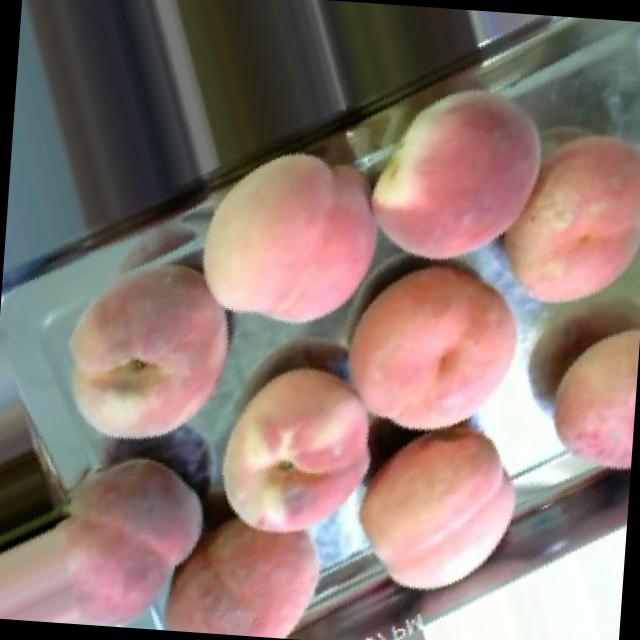Fruit: (162, 117, 410, 359), (31, 224, 261, 474), (343, 56, 570, 290), (0, 422, 239, 634), (316, 236, 542, 452), (187, 342, 391, 556), (340, 404, 534, 615), (474, 101, 640, 328), (148, 486, 346, 640), (531, 301, 640, 488)
